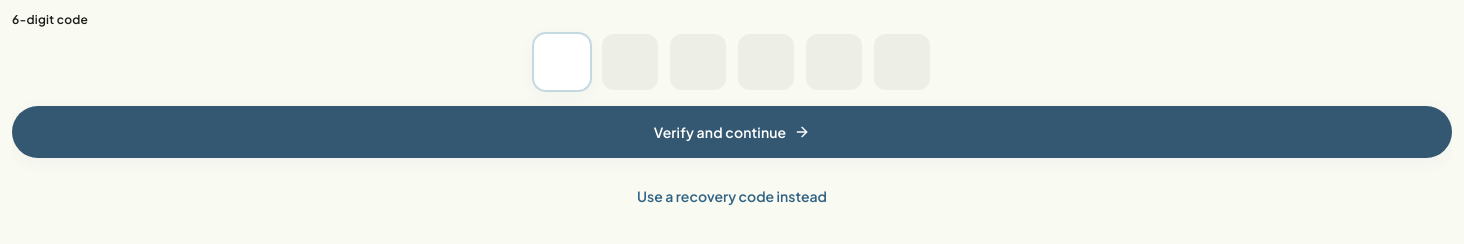
Scenario: TwoFactorForm › blocks a short code before it costs a round trip
Step 1. Type "123" into the field named "Digit 1" → {"x": 562, "y": 62}, box x1=534 y1=34 x2=590 y2=90
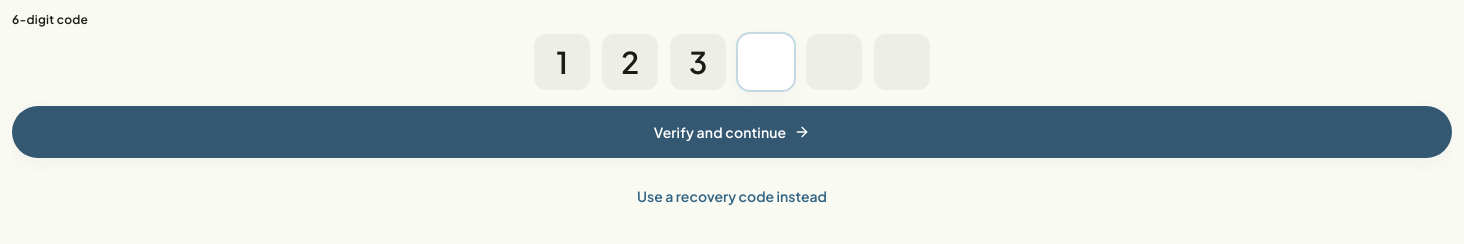
Step 2. Click the button "Verify and continue" → {"x": 732, "y": 132}, box x1=12 y1=106 x2=1452 y2=158
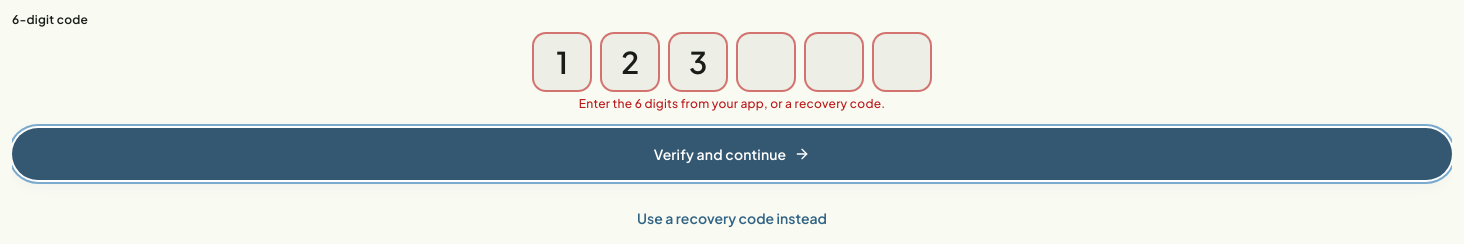
expect the text "Enter the 6 digits from your app, or a recovery code." is shown: met, box x1=579 y1=96 x2=885 y2=111
